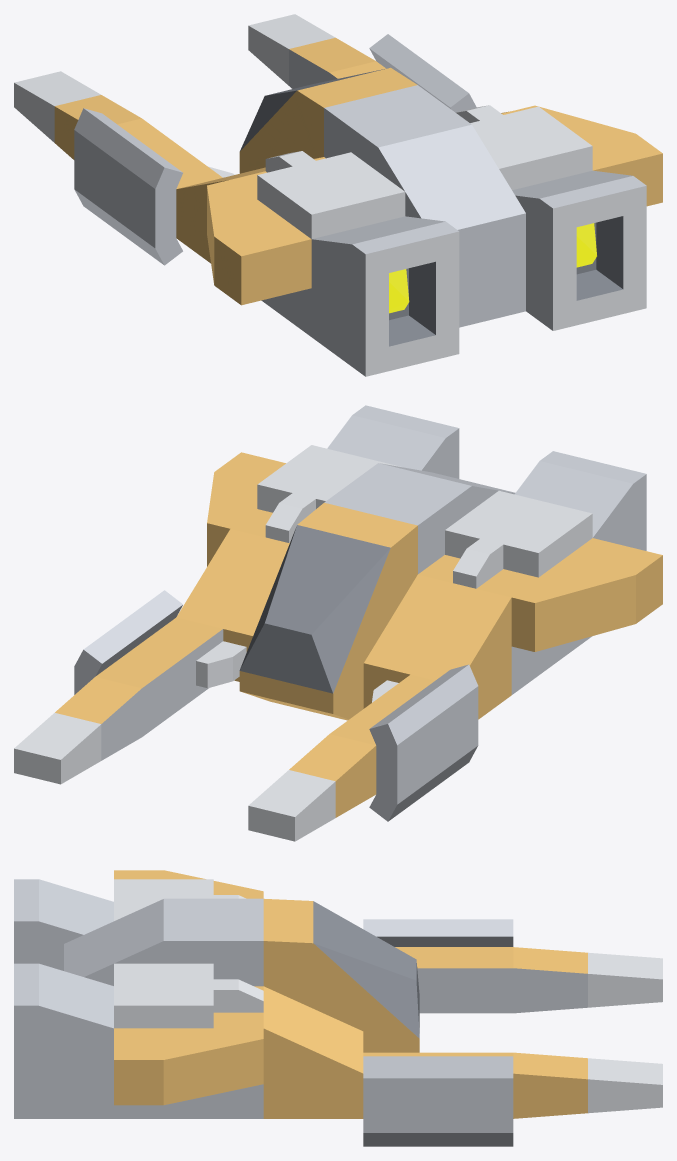
The model's file is ship_small_thrust.glb.
The picture shows the model from 3 angles, top to bottom: view 1: azimuth 30°, elevation 25°; view 2: azimuth 150°, elevation 25°; view 3: azimuth 270°, elevation 25°; orthographic projection. The views are drawn at different scales.
Parts seen in each view (by area): view 1: craft_miner, anim_thrust_z_neg.002, anim_thrust_z_neg.001; view 2: craft_miner; view 3: craft_miner.
Part boxes in pixels (left/top/right/bottom): craft_miner: left=14, top=14, right=662, bottom=376; anim_thrust_z_neg.002: left=576, top=223, right=596, bottom=267; anim_thrust_z_neg.001: left=389, top=269, right=409, bottom=313; craft_miner: left=14, top=405, right=662, bottom=841; craft_miner: left=14, top=870, right=662, bottom=1146.
Size of the model in its own units: 0.069 by 0.0269 by 0.0997.
